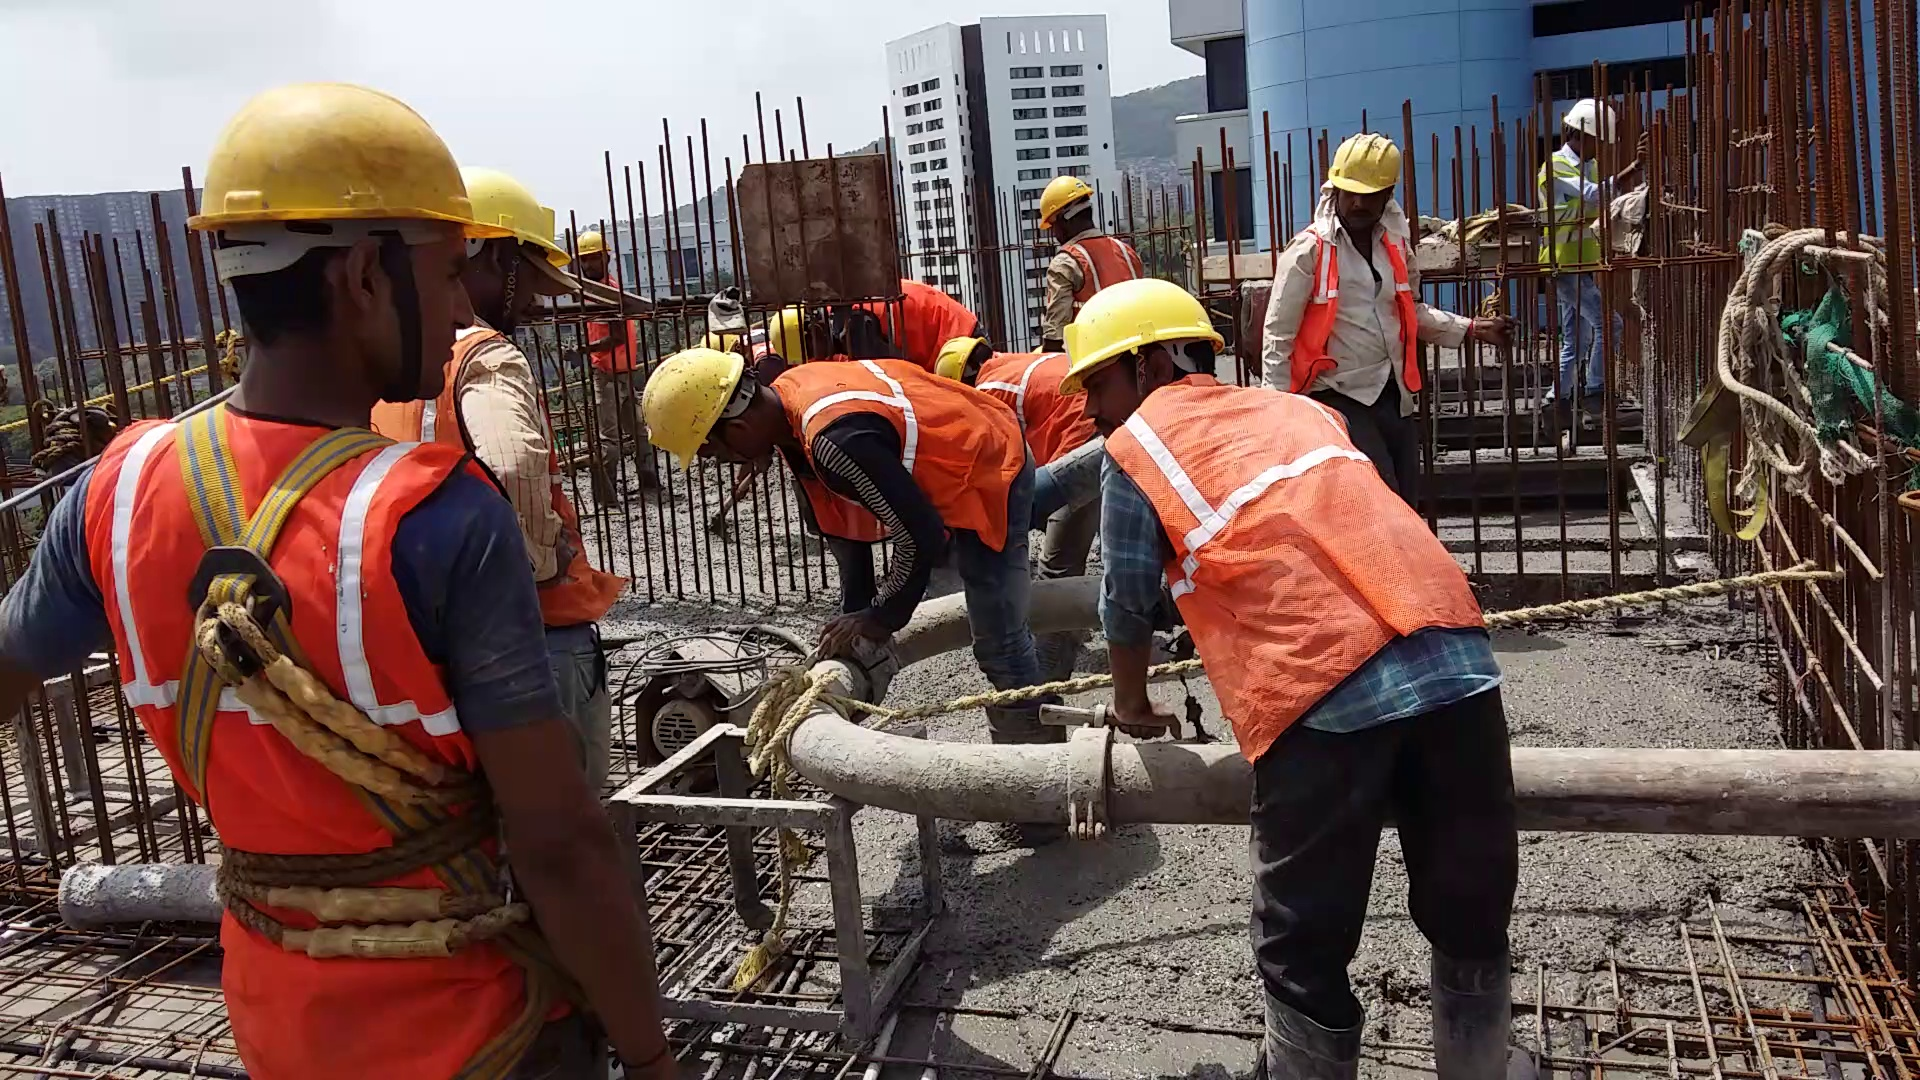SAFE: (74, 98, 531, 818), (1058, 274, 1486, 749), (640, 332, 1026, 555), (1276, 128, 1428, 440)
